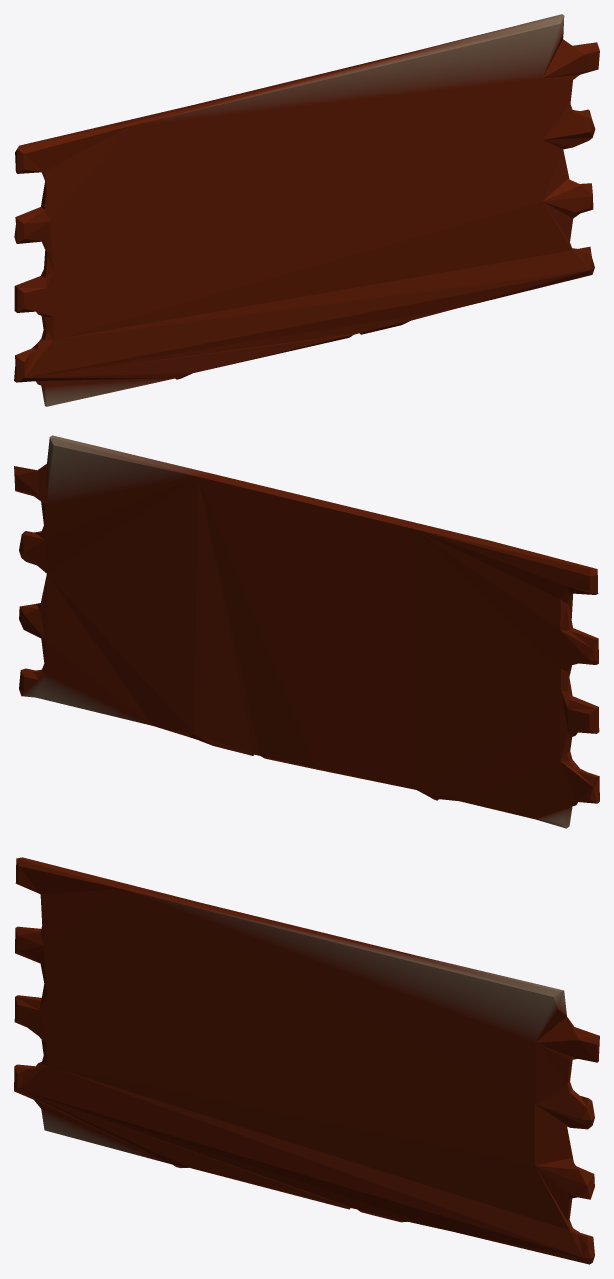
Rendered from Brickwall.glb.
The picture shows the model from 3 angles, top to bottom: view 1: azimuth 30°, elevation 25°; view 2: azimuth 150°, elevation 25°; view 3: azimuth 330°, elevation 25°; orthographic projection.
Parts seen in each view (by area): view 1: Root; view 2: Root; view 3: Root.
Boxes of the visible parts, left/top/right/bottom form: Root: left=14, top=14, right=599, bottom=406; Root: left=14, top=435, right=599, bottom=828; Root: left=14, top=857, right=599, bottom=1264.
Bounding box in the file's own units: 2.56 × 1.13 × 0.0639.
